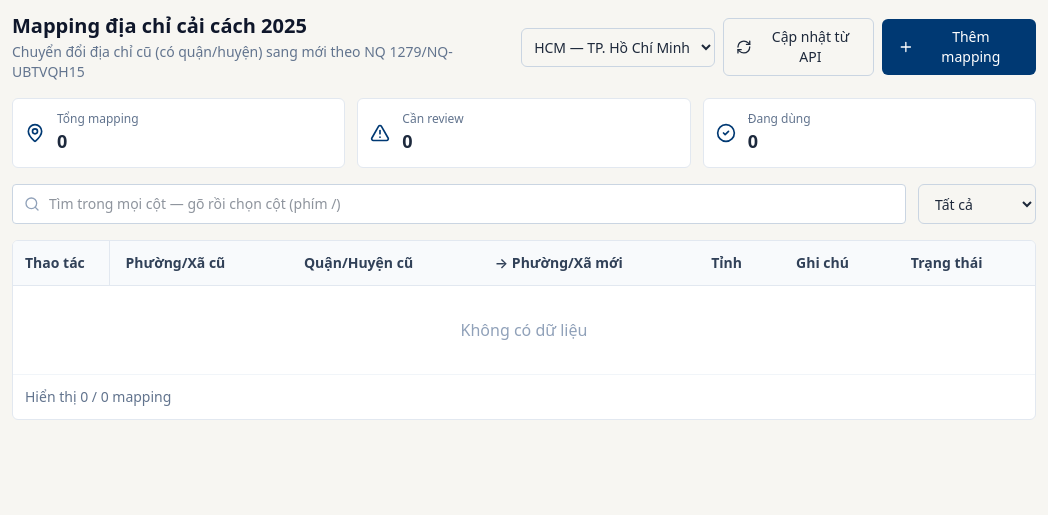
Scenario: AddressMappingModule — "Cập nhật từ API" button › should display progress "5/273" while job is running
Click the button "Cập nhật từ API" at {"x": 799, "y": 47}, box [723, 18, 874, 76]
Wait 2000 ms
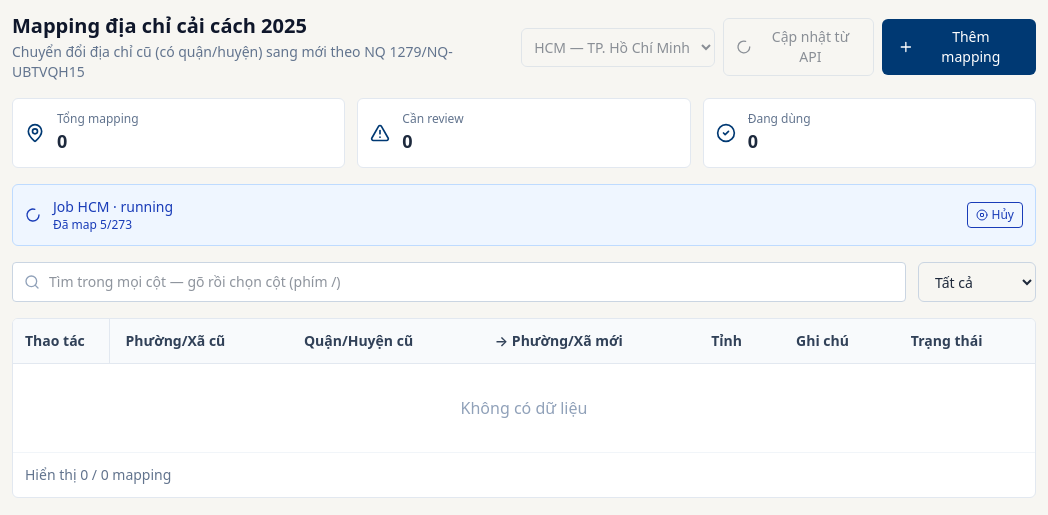
Now the text with test id "seed-progress" reads "5/273", box [100, 216, 132, 233]
